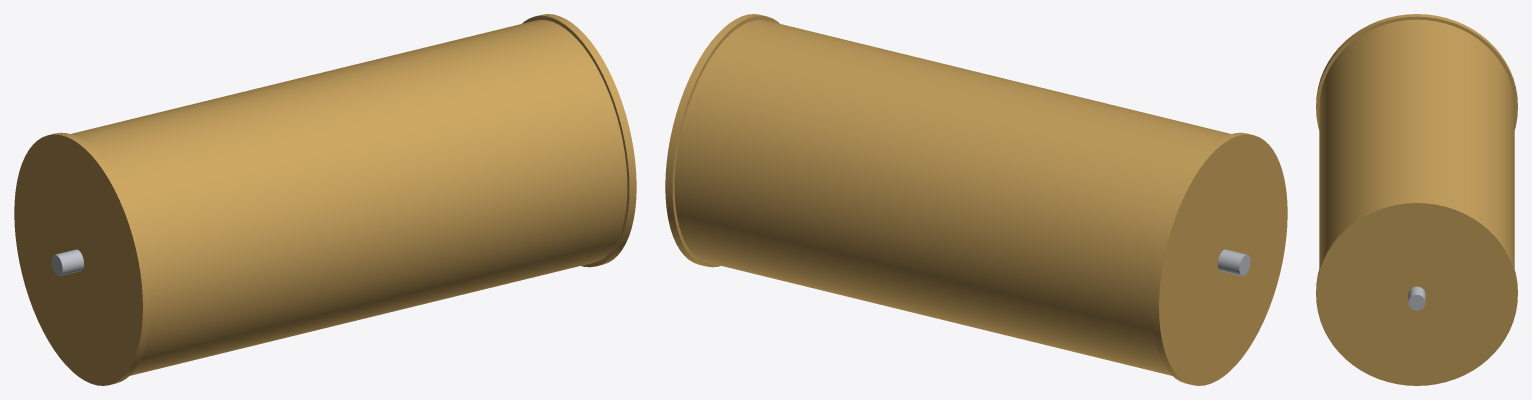
File: drum.glb
The picture shows the model from 3 angles, left to right: view 1: azimuth 30°, elevation 25°; view 2: azimuth 150°, elevation 25°; view 3: azimuth 270°, elevation 25°; orthographic projection. The views are drawn at different scales.
Visible parts, largest first — view 1: drum; view 2: drum; view 3: drum.
Boxes of the visible parts, box(x1,y1,x2,y2) form: drum: box(14, 14, 636, 385); drum: box(665, 14, 1287, 385); drum: box(1316, 14, 1517, 385).
Size of the model in its own units: 0.224 by 0.093 by 0.093.
